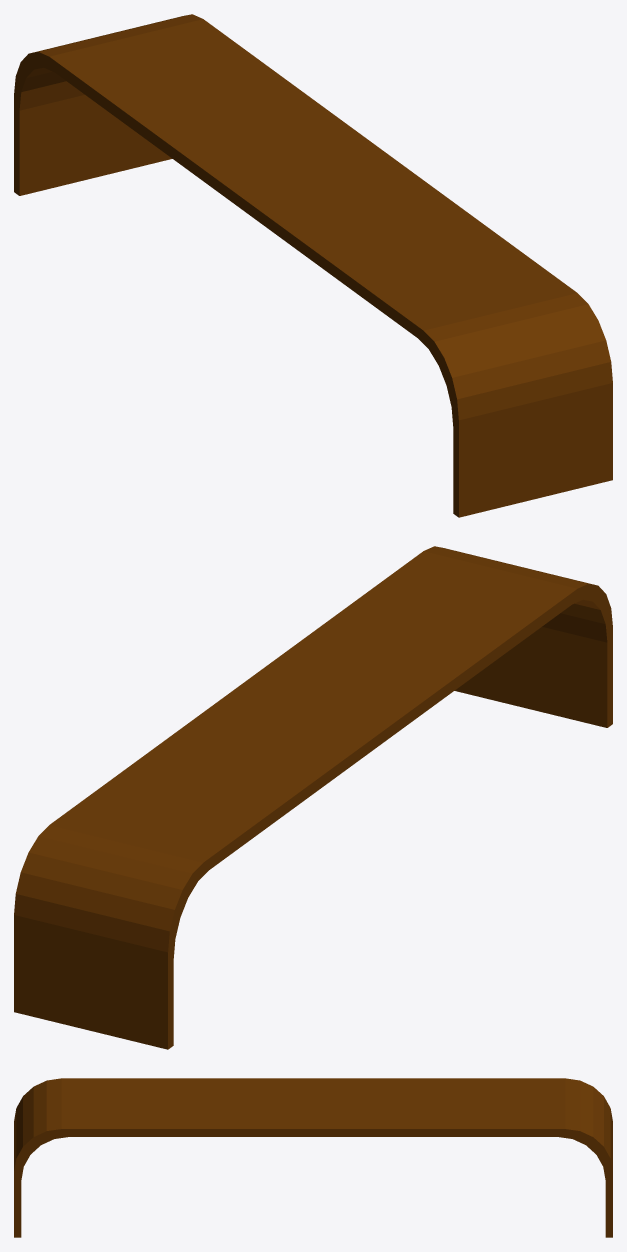
Rendered from TempBench.glb.
The picture shows the model from 3 angles, top to bottom: view 1: azimuth 30°, elevation 25°; view 2: azimuth 150°, elevation 25°; view 3: azimuth 270°, elevation 25°; orthographic projection. The views are drawn at different scales.
Visible parts, largest first — view 1: Cube; view 2: Cube; view 3: Cube.
Part boxes in pixels (x1=…): Cube: x1=14, y1=14, x2=612, y2=517; Cube: x1=14, y1=546, x2=612, y2=1049; Cube: x1=14, y1=1078, x2=612, y2=1237.
Size of the model in its own units: 2 by 2 by 10.
